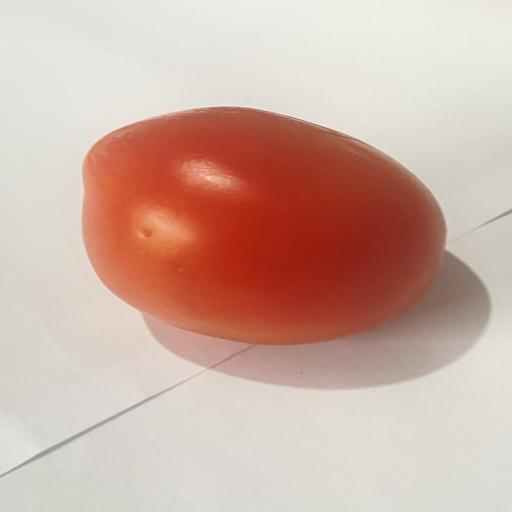overipe: (82, 107, 446, 344)
